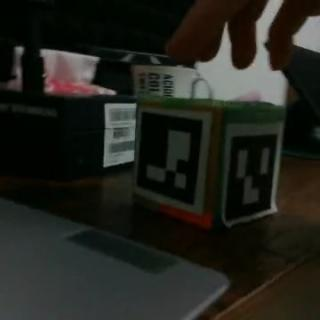armor: (135, 106, 212, 209), (222, 120, 285, 228)
robot: (133, 95, 286, 230)
